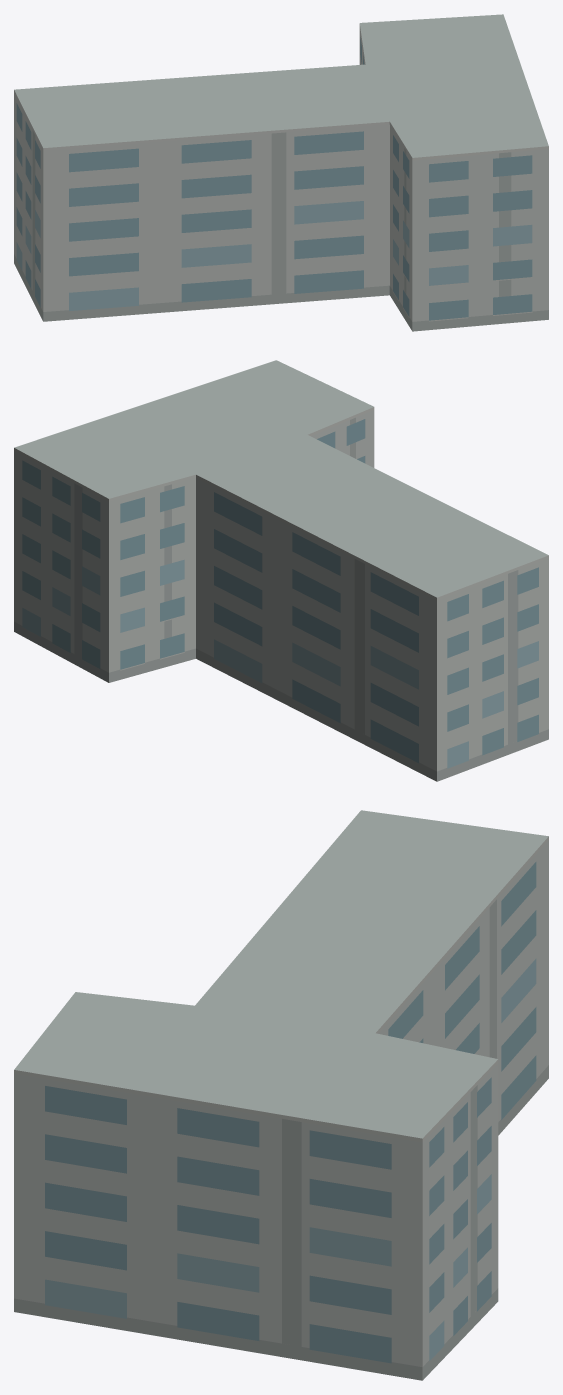
Rendered from residential-cd5c46bf-3ce4-4d1e-8498-7c5486f0e8dd.glb.
3 views of the same model, one above another, from view 1: azimuth 30°, elevation 25°; view 2: azimuth 150°, elevation 25°; view 3: azimuth 270°, elevation 25° (orthographic). The views are drawn at different scales.
Parts seen in each view (by area): view 1: residential-cd5c46bf-3ce4-4d1e-8498-7c5486f0e8dd.tmp; view 2: residential-cd5c46bf-3ce4-4d1e-8498-7c5486f0e8dd.tmp; view 3: residential-cd5c46bf-3ce4-4d1e-8498-7c5486f0e8dd.tmp.
Boxes of the visible parts, x1=… form: residential-cd5c46bf-3ce4-4d1e-8498-7c5486f0e8dd.tmp: x1=14, y1=14, x2=548, y2=331; residential-cd5c46bf-3ce4-4d1e-8498-7c5486f0e8dd.tmp: x1=14, y1=360, x2=548, y2=781; residential-cd5c46bf-3ce4-4d1e-8498-7c5486f0e8dd.tmp: x1=14, y1=810, x2=548, y2=1380.
Bounding box in the file's own units: 44.35 × 15.25 × 30.54.
